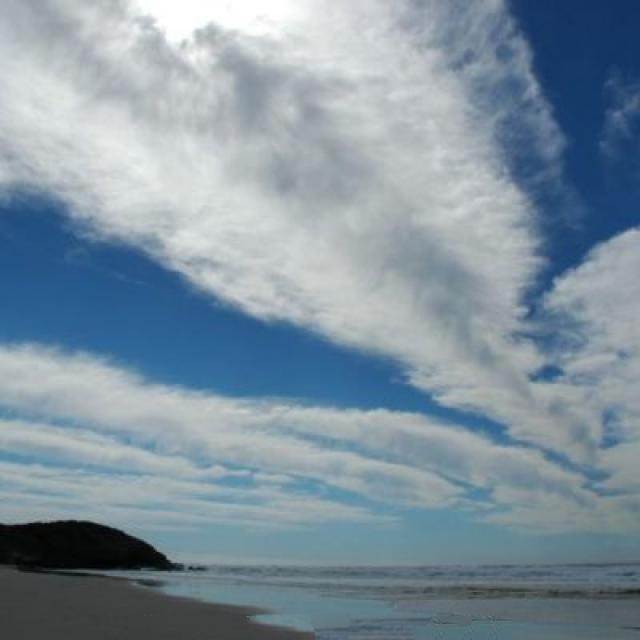Ci: (1, 14, 640, 489)
